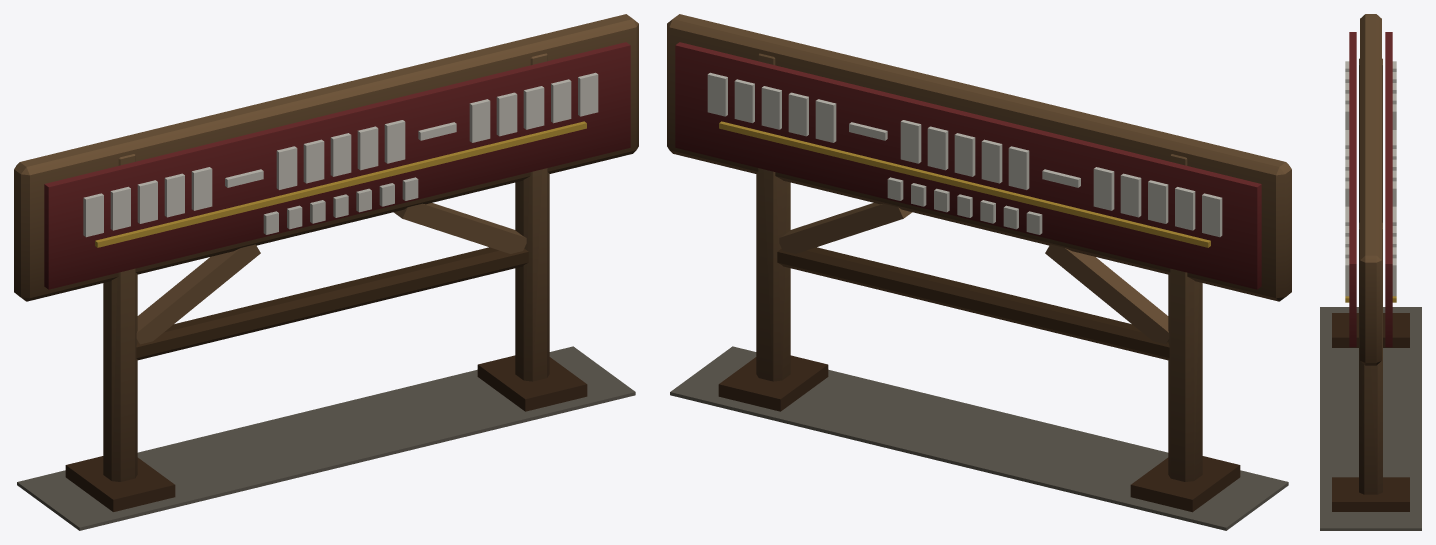
File: route-destination-board.glb
3 views of the same model, side by side, from view 1: azimuth 30°, elevation 25°; view 2: azimuth 150°, elevation 25°; view 3: azimuth 270°, elevation 25° (orthographic). The views are drawn at different scales.
Visible parts, largest first — view 1: route_destination_board; view 2: route_destination_board; view 3: route_destination_board.
Part boxes in pixels (<box>): route_destination_board: <box>14,14,638,530</box>; route_destination_board: <box>667,14,1291,530</box>; route_destination_board: <box>1320,14,1421,530</box>.
Bounding box in the file's own units: 2.4 × 1.3 × 0.42.
